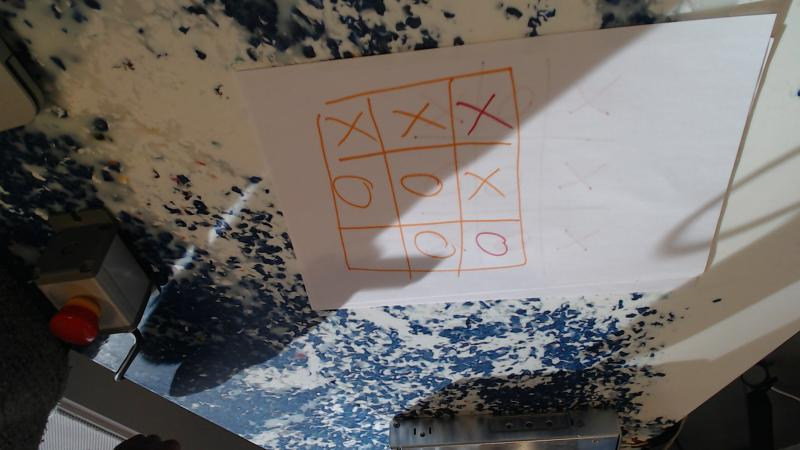O: (329, 166, 379, 216), (394, 169, 450, 201), (410, 229, 456, 267), (470, 226, 514, 262)
X: (389, 96, 447, 138), (456, 93, 512, 135), (462, 162, 512, 205), (328, 108, 371, 151)
grid: (309, 76, 529, 272)
